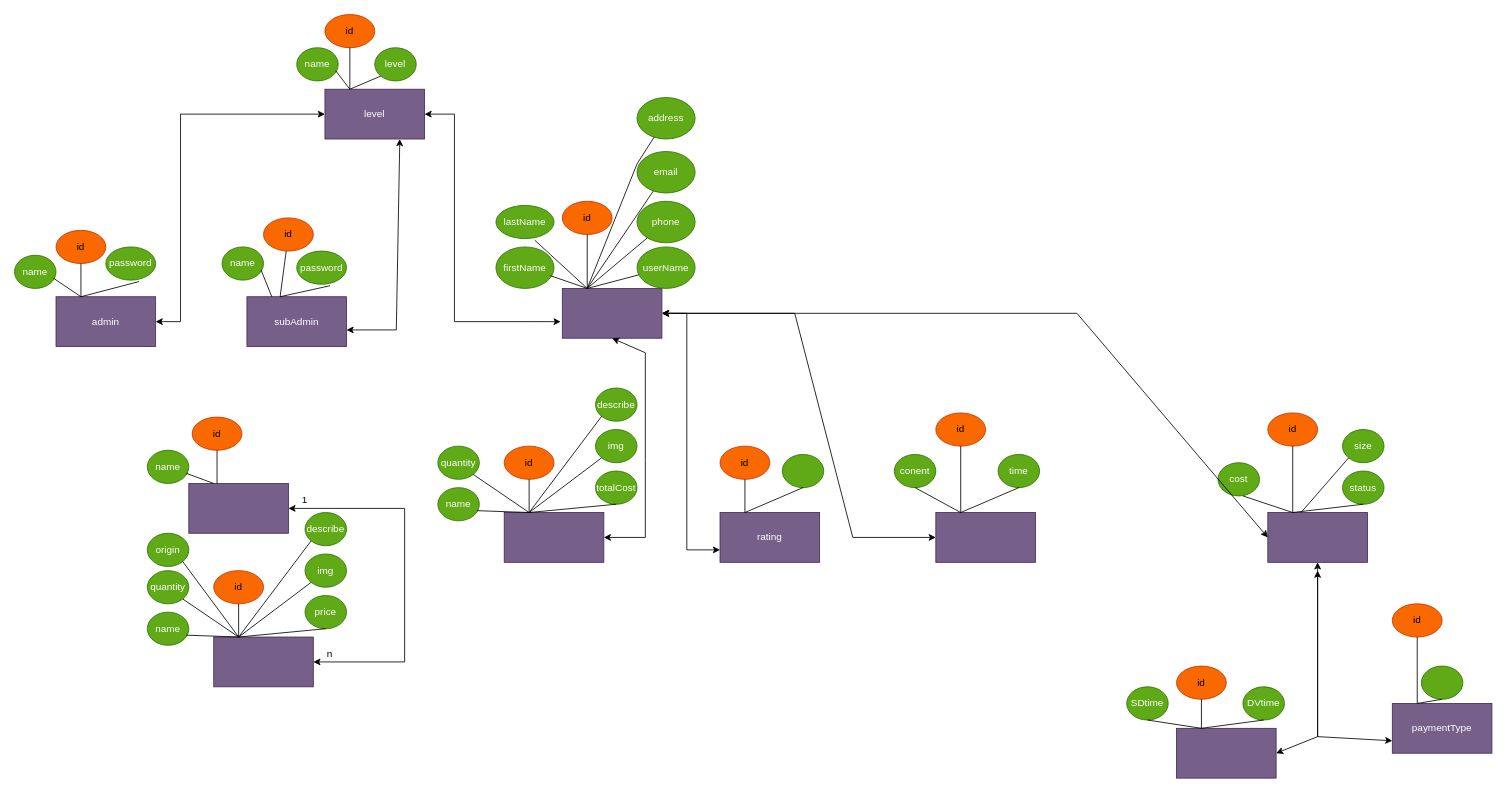
Image size: 1506x793. Some labels were removed from this diagram. The shapes that lost their labels are listed below. From the top down, each one's centre as x and y in pixels, then its label:
(611,313): customer
(802,471): rate
(238,508): category
(553,537): cart
(985,537): comment
(1317,537): order
(263,661): product
(1442,682): type
(1226,752): shipMent
